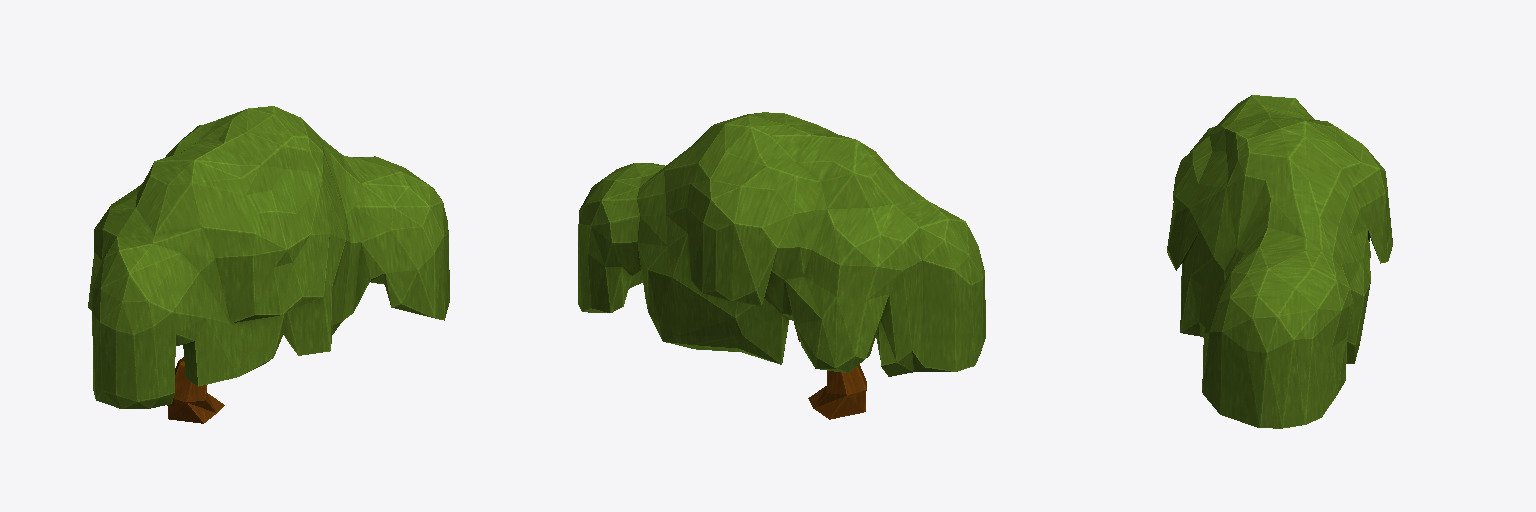
3 views of the same model, side by side, from view 1: azimuth 30°, elevation 25°; view 2: azimuth 150°, elevation 25°; view 3: azimuth 270°, elevation 25° (orthographic).
Parts seen in each view (by area): view 1: WeepingWillowTree_mesh; view 2: WeepingWillowTree_mesh; view 3: WeepingWillowTree_mesh.
Part boxes in pixels (x1,y1,x2,y2): WeepingWillowTree_mesh: (88, 106, 449, 423); WeepingWillowTree_mesh: (578, 112, 985, 419); WeepingWillowTree_mesh: (1167, 95, 1392, 428).
Bounding box in the file's own units: 10.97 × 7.76 × 5.8.
1 materials, 1 textured.